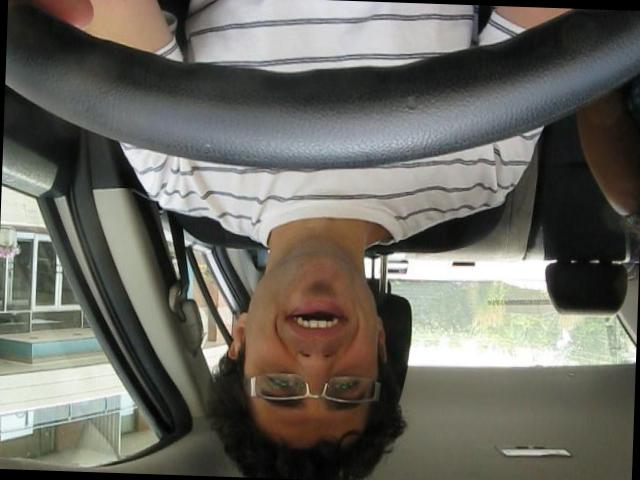eye_open: (260, 375, 308, 393), (328, 378, 364, 398)
face: (240, 249, 386, 437)
